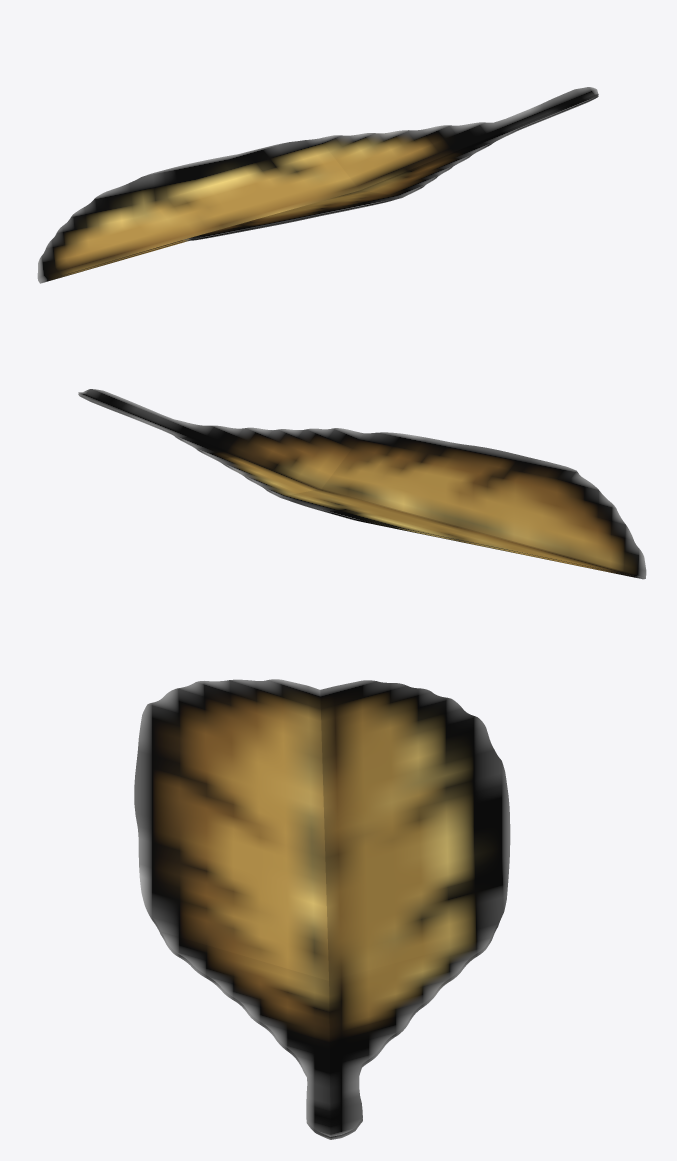
File: Złote_pi_ro.fbx
3 renders of one model, top to bottom at view 1: azimuth 30°, elevation 25°; view 2: azimuth 150°, elevation 25°; view 3: azimuth 270°, elevation 25°, orthographic. The views are drawn at different scales.
Visible parts, largest first — view 1: Złote pióro; view 2: Złote pióro; view 3: Złote pióro.
Boxes of the visible parts, <box> form: Złote pióro: <box>37,87,598,283</box>; Złote pióro: <box>78,389,646,579</box>; Złote pióro: <box>134,679,510,1139</box>.
Bounding box in the file's own units: 76.68 × 10.75 × 25.84.
